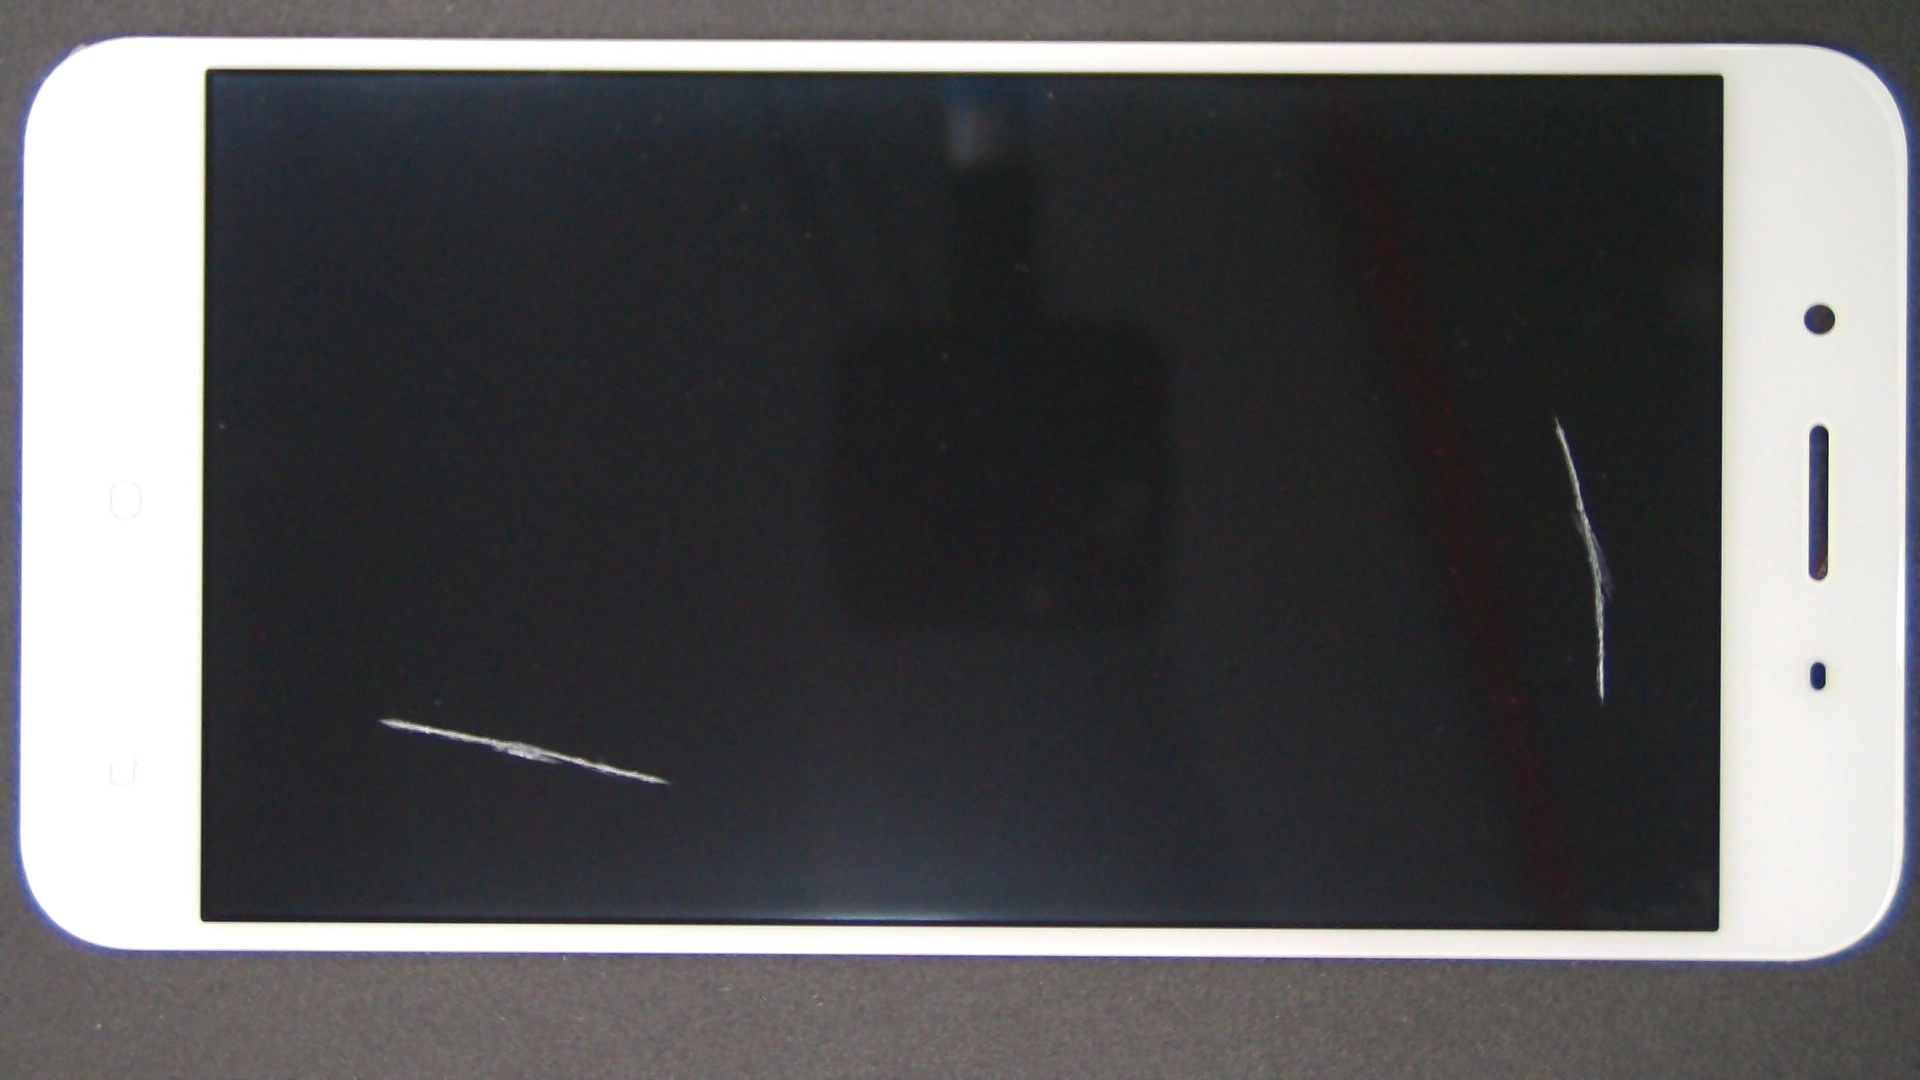oil: (777, 204, 1920, 625), (193, 357, 572, 1076)
